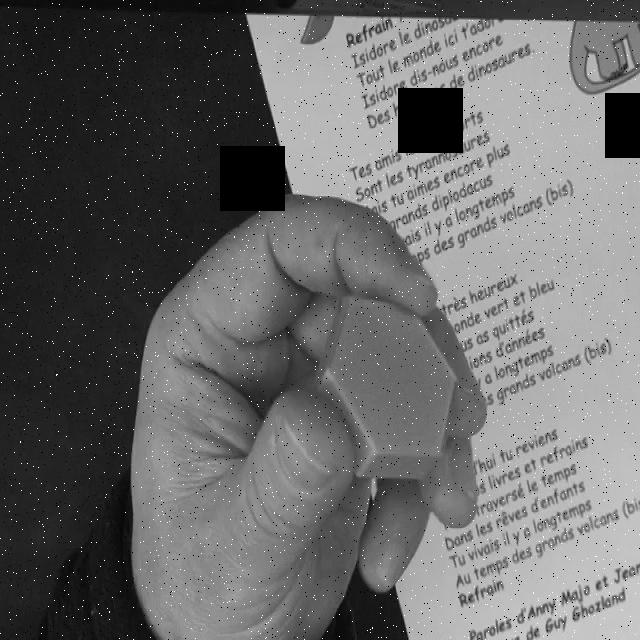hexagon: (314, 294, 461, 482)
